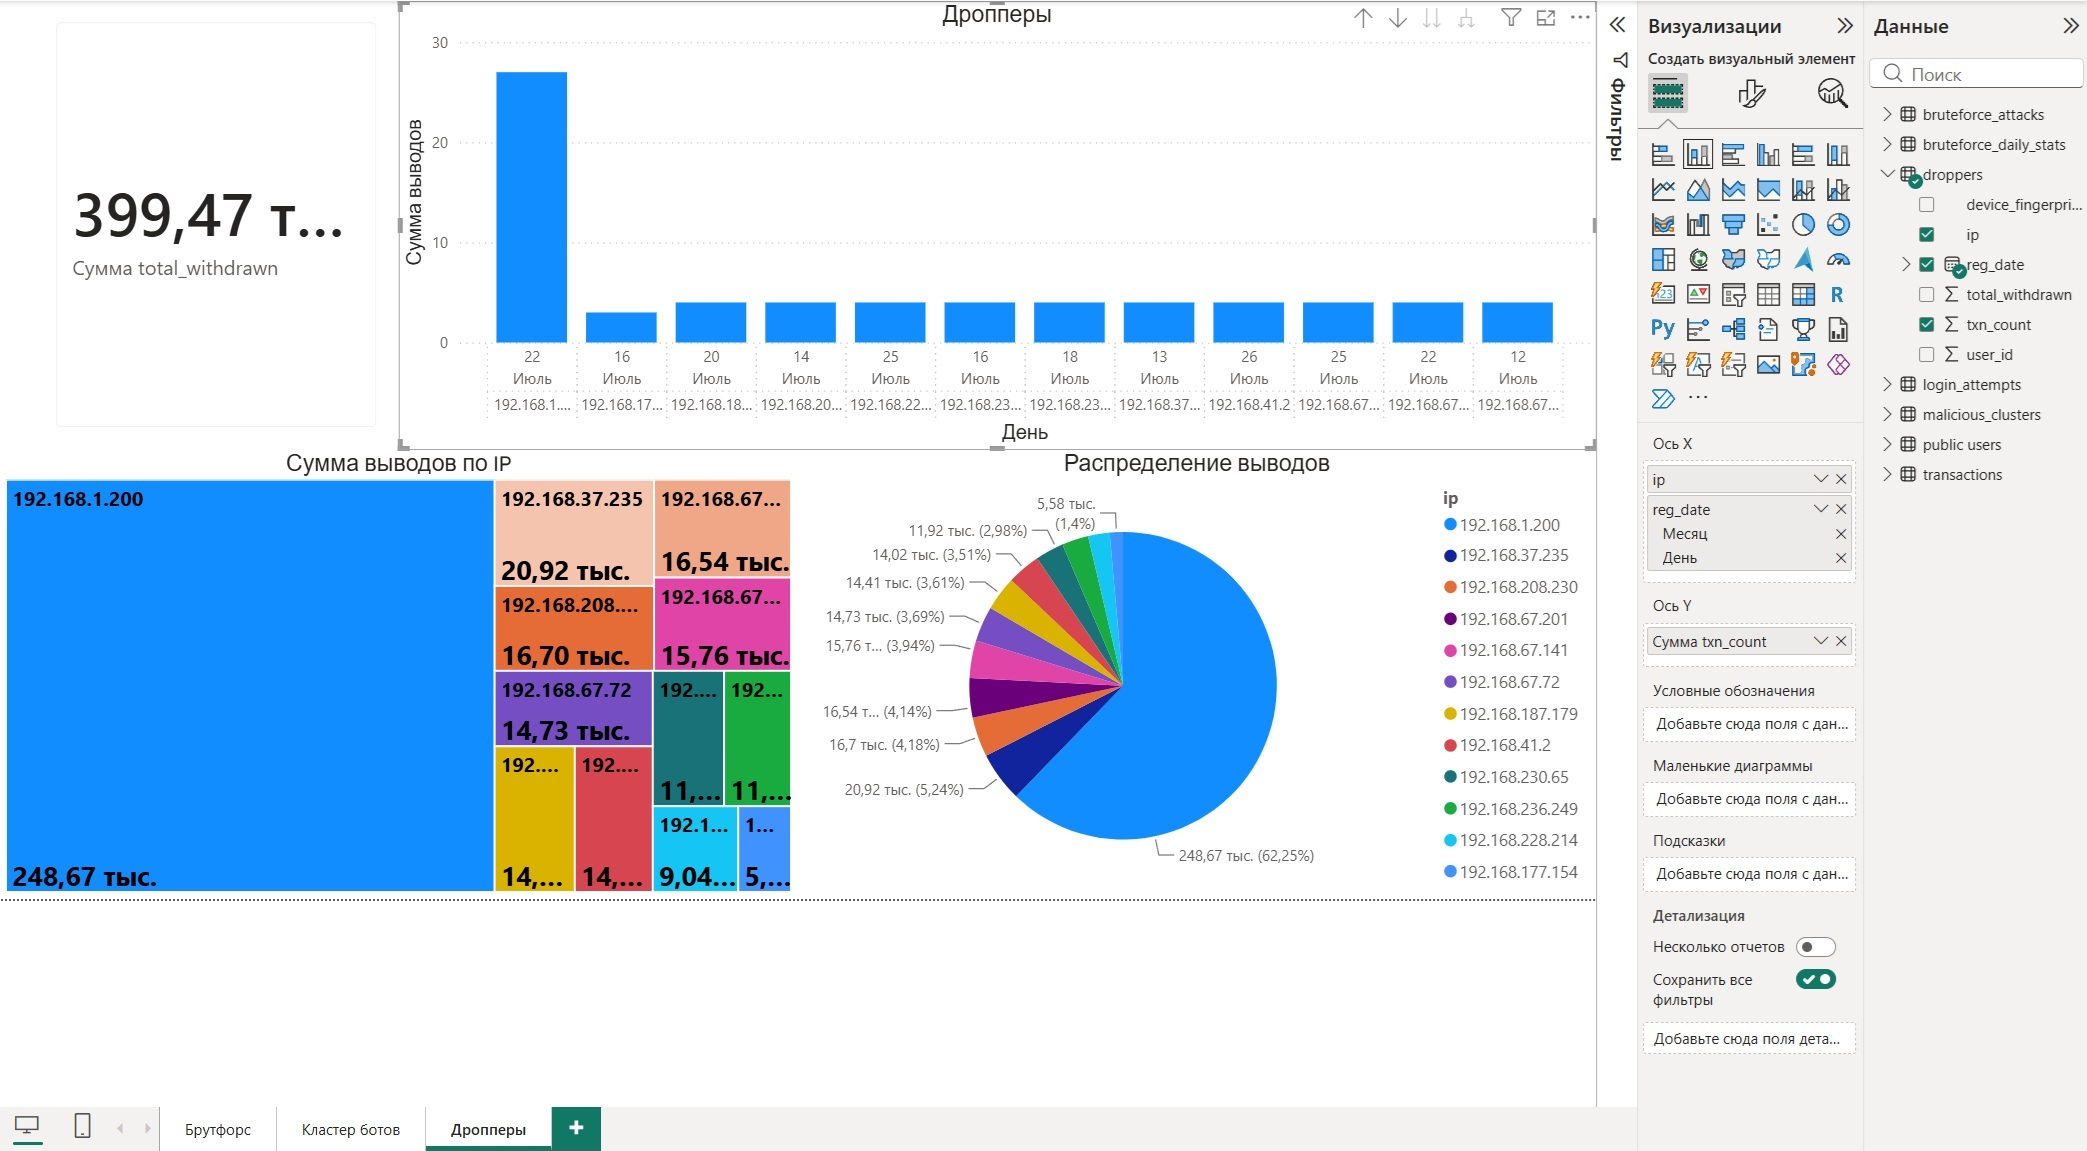

This screenshot's page, from the dashboard's own definition file:
{"tool":"powerbi","page":{"name":"Дропперы","canvas":[1280,720],"ordinal":2},"visuals":[{"type":"columnChart","title":"Дропперы","fields":{"Category":["droppers.ip","droppers.reg_date.Изменение.Иерархия дат.Месяц","droppers.reg_date.Изменение.Иерархия дат.День"],"Y":["Sum(droppers.txn_count)"]},"box":[319.8,0,960.4,359.9],"z":0},{"type":"treemap","title":"Сумма выводов по IP","fields":{"Group":["droppers.ip"],"Values":["Sum(droppers.total_withdrawn)"]},"box":[0,359.8,639.6,359.8],"z":1000},{"type":"pieChart","title":"Распределение выводов","fields":{"Y":["Sum(droppers.total_withdrawn)"],"Category":["droppers.ip"]},"box":[639.6,359.8,640.6,359.8],"z":2000},{"type":"cardVisual","fields":{"Data":["Sum(droppers.total_withdrawn)"]},"box":[28.1,0,291.7,359.9],"z":3000}]}

Visuals, with their boxes on the page's 1280x720 design canvas (x1, y1, x2, y2). These are canvas units, not pixel positions in the 2087x1151 screenshot, which may show the page scaled, cropped or inside an application window:
"Дропперы" columnChart: BBox(320, 0, 1280, 360)
"Сумма выводов по IP" treemap: BBox(0, 360, 640, 720)
"Распределение выводов" pieChart: BBox(640, 360, 1280, 720)
cardVisual - Sum(droppers.total_withdrawn): BBox(28, 0, 320, 360)
